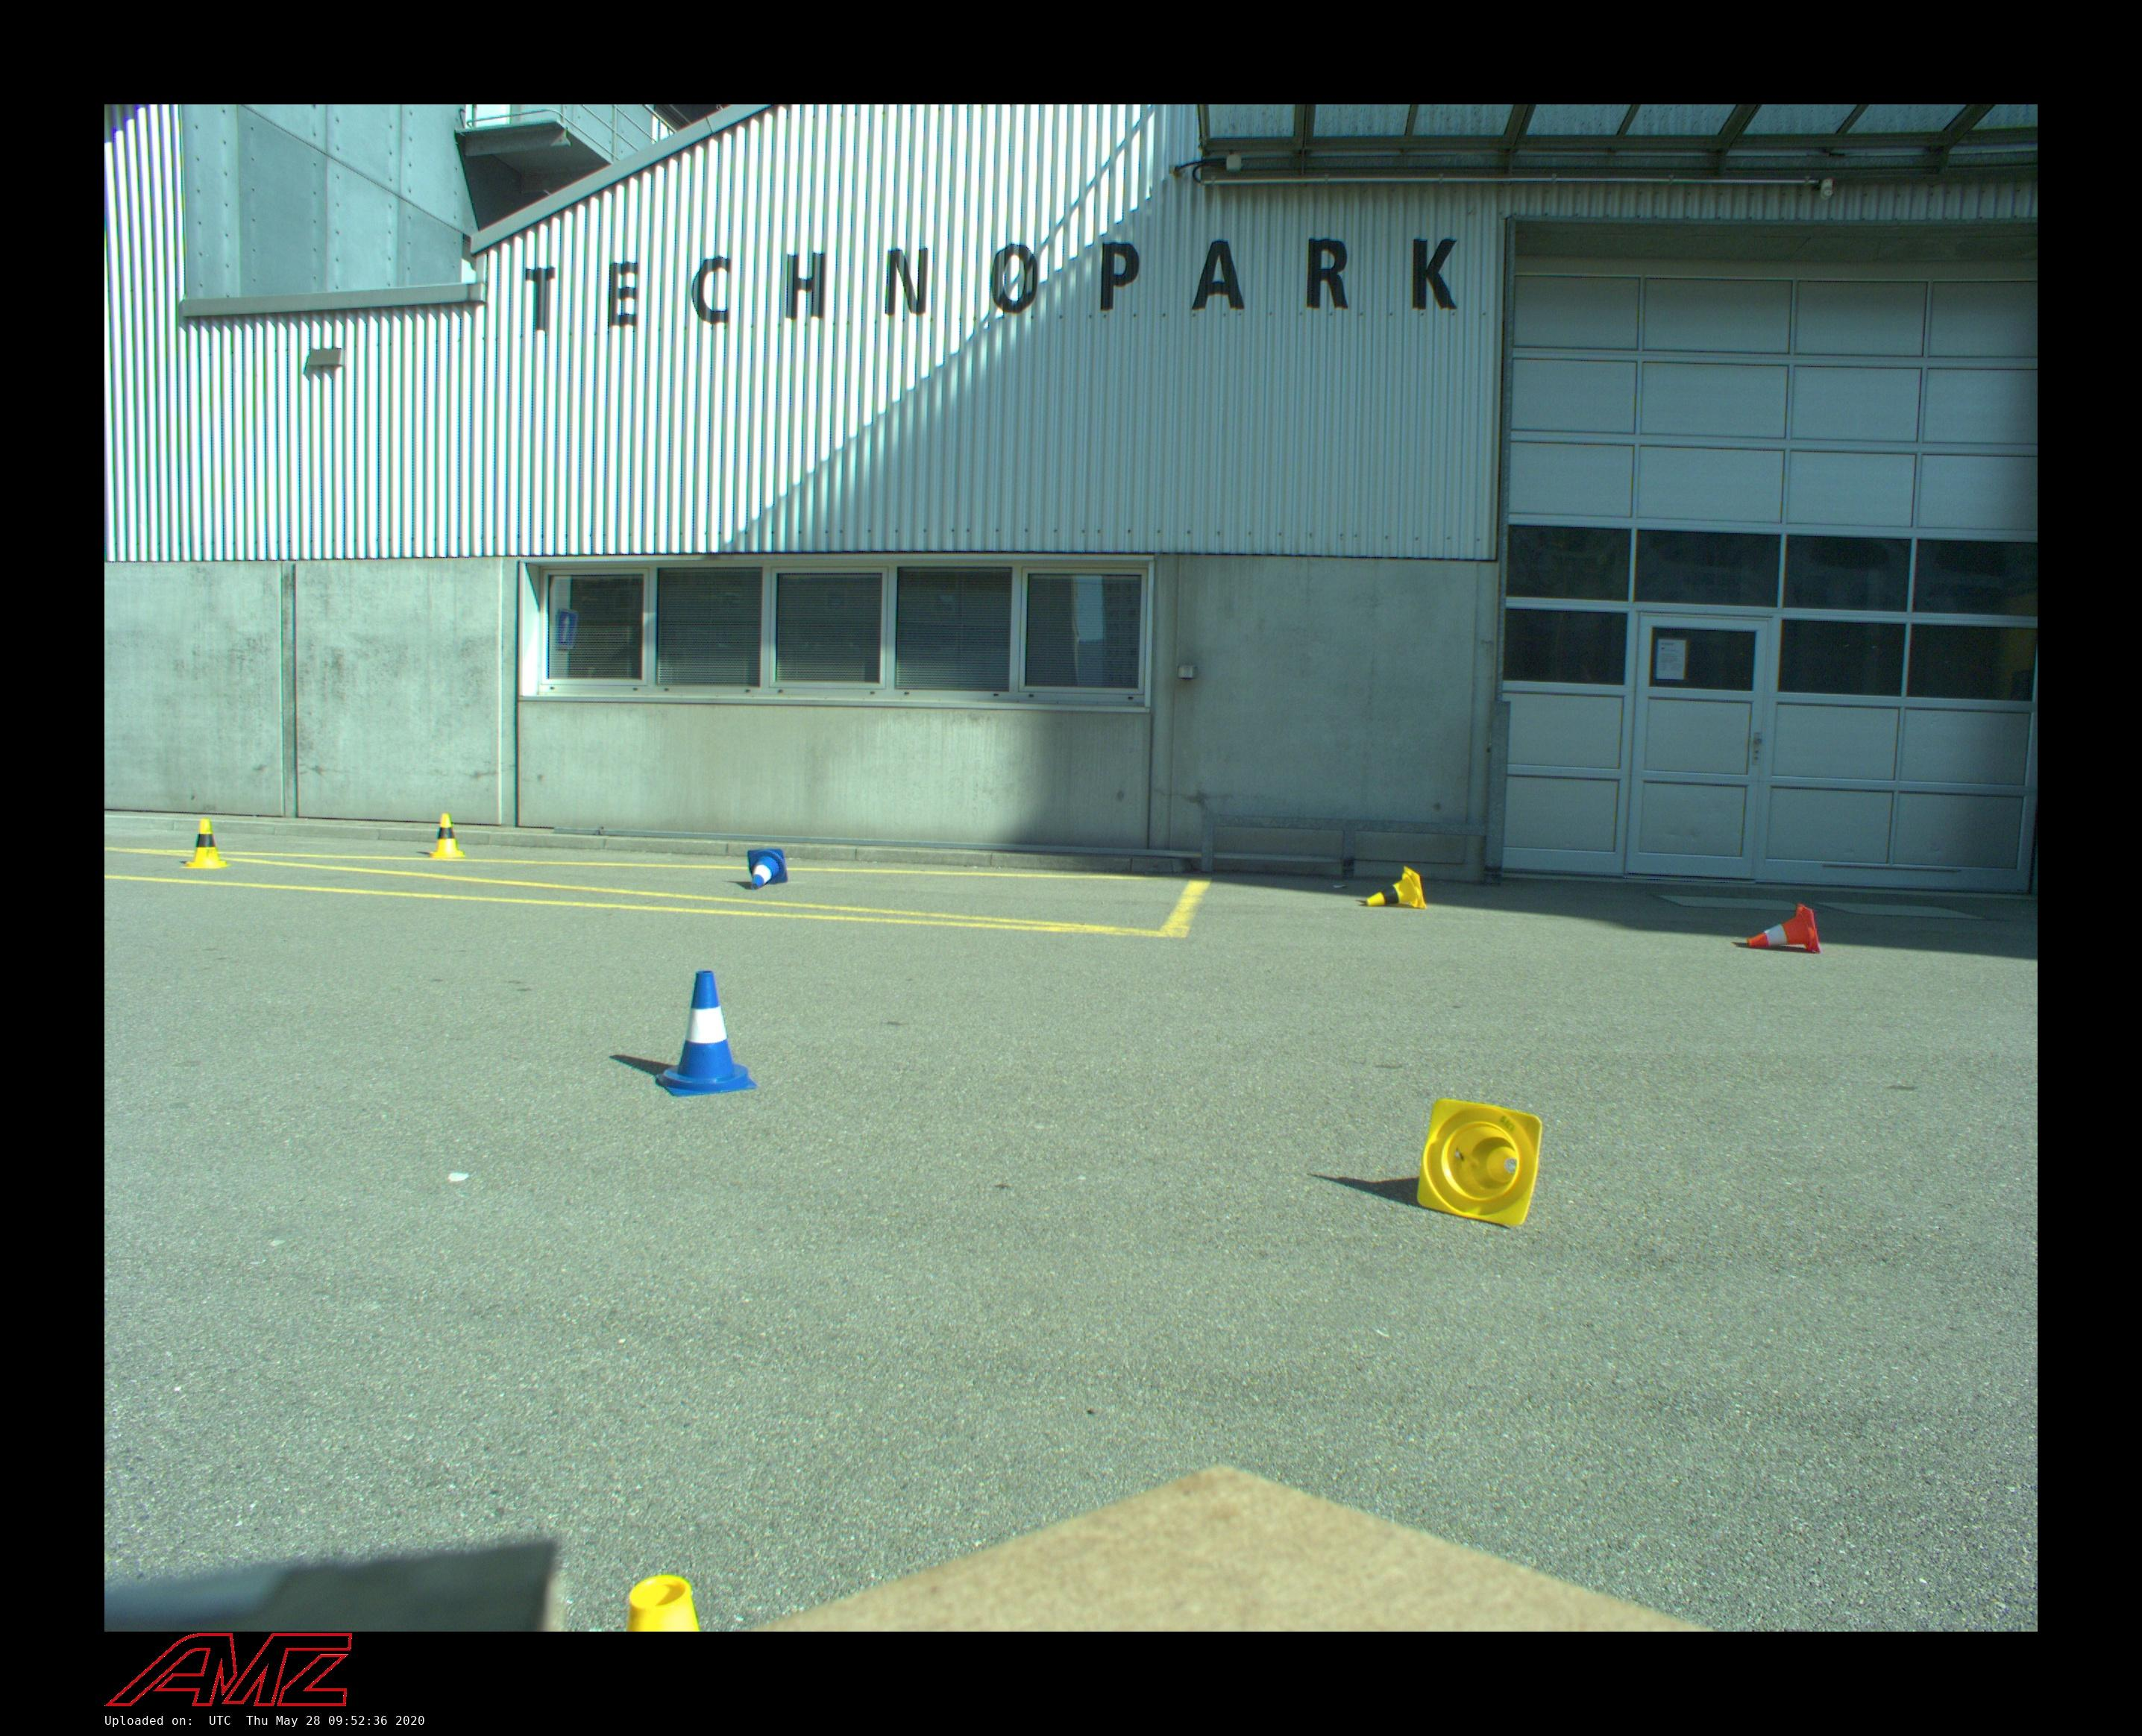blue_cone: (656, 970, 757, 1096), (747, 849, 788, 890)
orange_cone: (1748, 904, 1822, 954)
yellow_cone: (1416, 1098, 1542, 1227), (1366, 866, 1428, 909), (180, 819, 231, 869), (429, 813, 465, 858)
